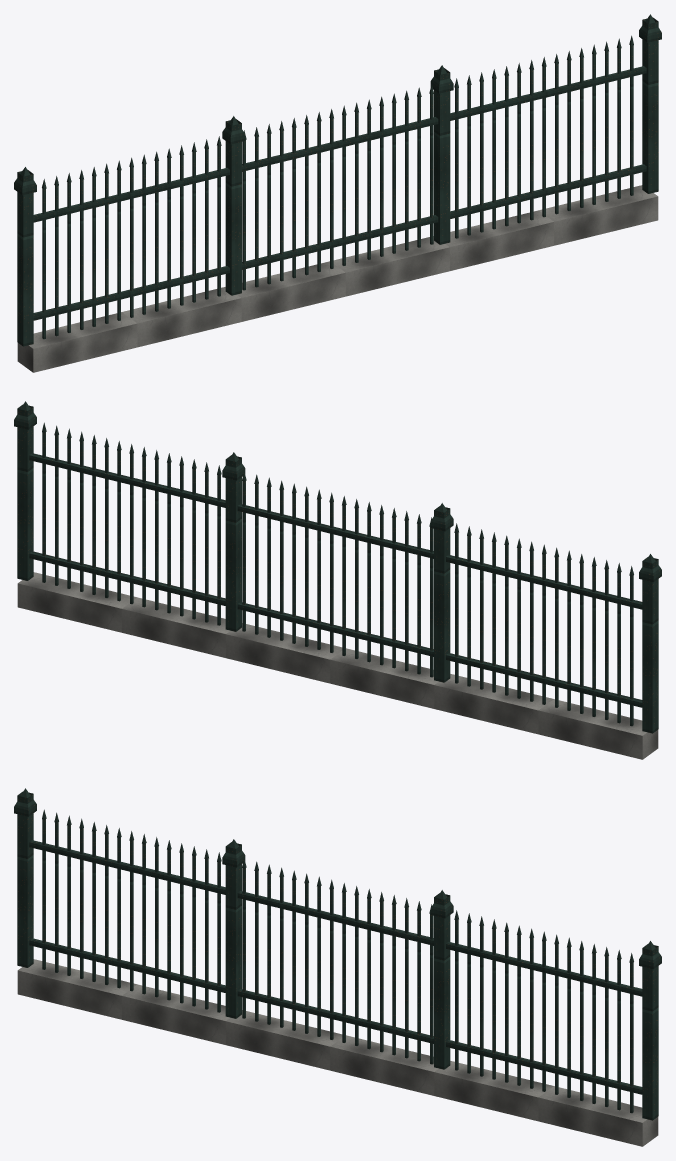
Rendered from city_fence.obj.
The picture shows the model from 3 angles, top to bottom: view 1: azimuth 30°, elevation 25°; view 2: azimuth 150°, elevation 25°; view 3: azimuth 330°, elevation 25°; orthographic projection.
Parts seen in each view (by area): view 1: city_fence; view 2: city_fence; view 3: city_fence.
Boxes of the visible parts, x1=… form: city_fence: x1=14, y1=14, x2=661, y2=372; city_fence: x1=14, y1=401, x2=661, y2=759; city_fence: x1=14, y1=788, x2=661, y2=1146.
Size of the model in its own units: 6.14 by 1.84 by 0.26.
2 materials, 2 textured.
